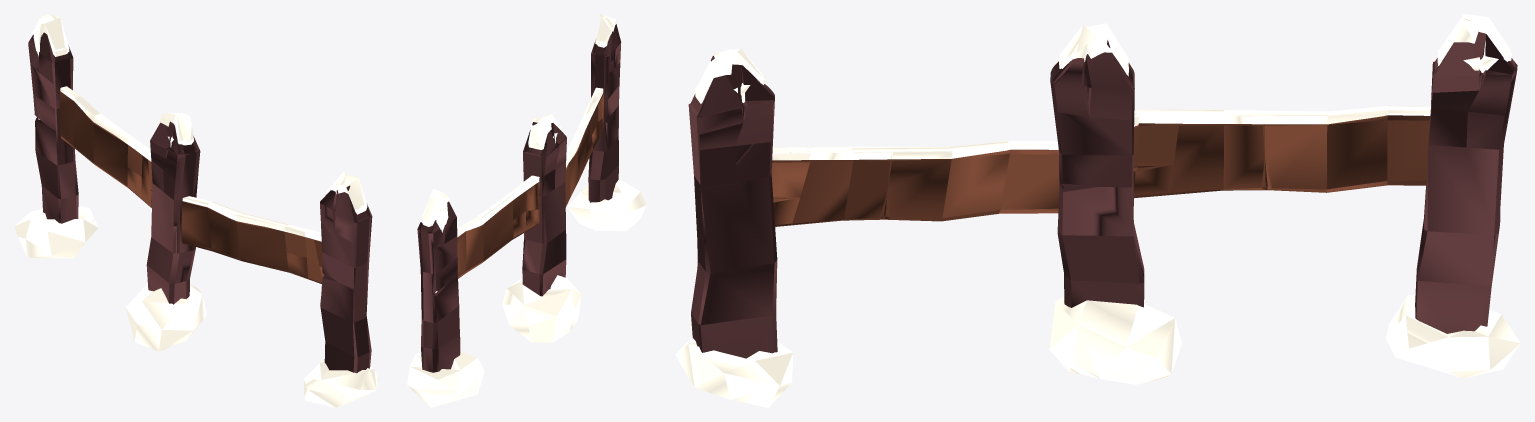
The model's file is Fence2Asset.fbx.
3 renders of one model, left to right at view 1: azimuth 30°, elevation 25°; view 2: azimuth 150°, elevation 25°; view 3: azimuth 270°, elevation 25°, orthographic. The views are drawn at different scales.
Visible parts, largest first — view 1: Fence2_1; view 2: Fence2_1; view 3: Fence2_1.
Boxes of the visible parts, bbox=[...] form: Fence2_1: bbox=[14, 14, 378, 407]; Fence2_1: bbox=[407, 14, 646, 407]; Fence2_1: bbox=[675, 14, 1520, 407].
Bounding box in the file's own units: 82.85 × 160 × 324.
